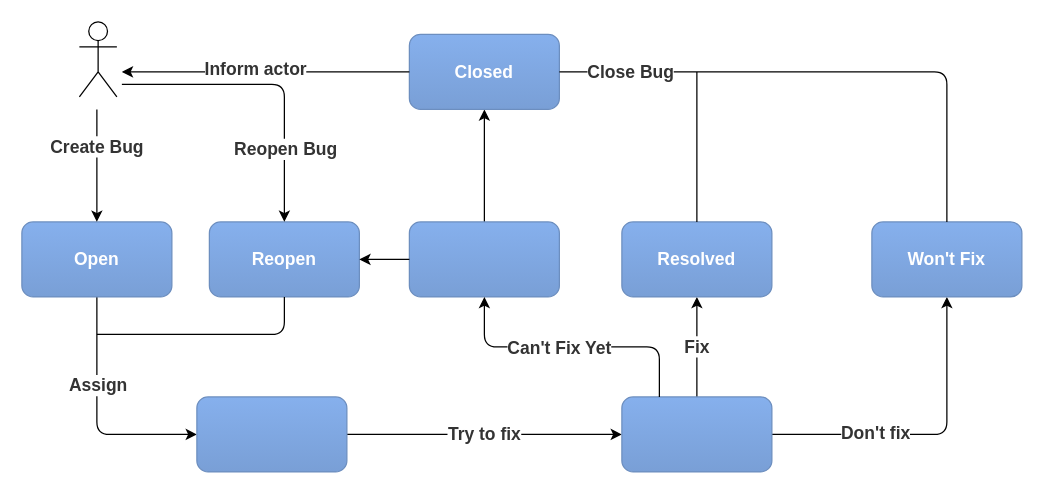
The diagram is 1044 pixels wide and 494 high, and some of its shapes have lost their labels. Each missing label, with the box of its shape:
In Progress: (621, 396, 772, 472)
On Hold: (408, 221, 559, 297)
Pending: (196, 396, 347, 472)
